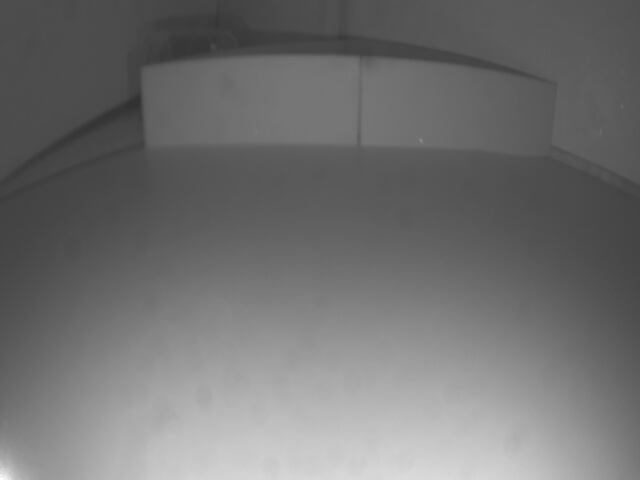Point: (141, 60, 560, 157)
